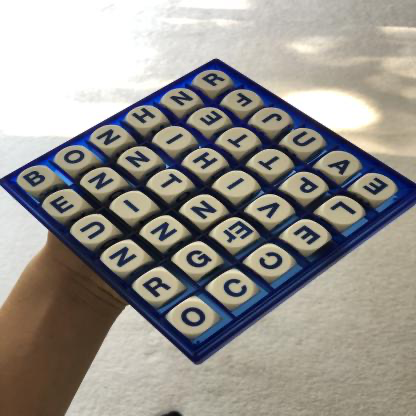a: (323, 153, 360, 178)
b: (19, 167, 55, 192)
c: (213, 274, 254, 305), (252, 248, 293, 277)
e: (289, 223, 328, 250), (46, 192, 85, 218), (359, 175, 396, 201), (193, 109, 228, 131)
er: (217, 220, 255, 248)
f: (226, 91, 262, 112)
g: (178, 246, 218, 275)
h: (188, 149, 224, 174), (129, 106, 163, 129)
i: (220, 173, 256, 199), (115, 194, 152, 219), (158, 128, 192, 151)
j: (255, 109, 290, 133)
l: (324, 199, 363, 226)
n: (104, 244, 144, 273), (146, 219, 185, 247), (186, 197, 224, 224), (84, 169, 122, 195), (122, 148, 158, 173), (93, 126, 129, 150), (165, 90, 199, 111)
o: (172, 302, 216, 335), (57, 146, 93, 171)
p: (289, 174, 326, 201)
r: (138, 272, 180, 302), (197, 71, 231, 92)
t: (253, 151, 291, 175), (152, 172, 189, 196), (223, 129, 257, 154)
u: (75, 217, 113, 244), (288, 130, 323, 155)
v: (252, 196, 291, 224)
